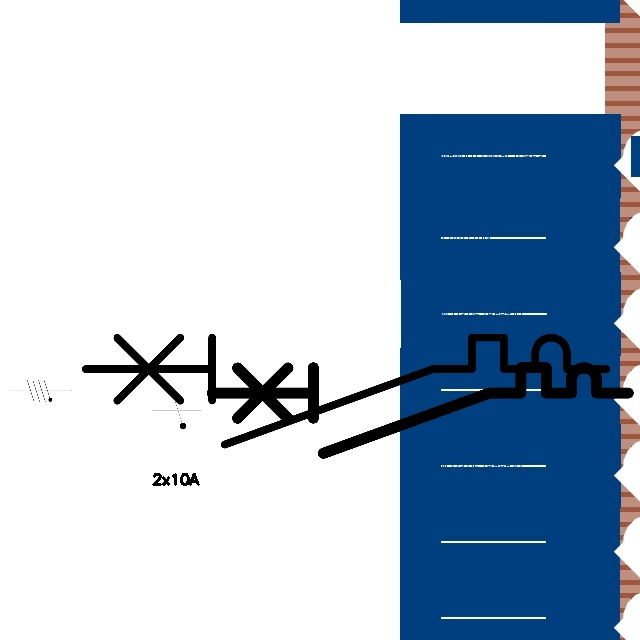interruptor_termomagnetico: (71, 324, 619, 458), (201, 357, 639, 464)
